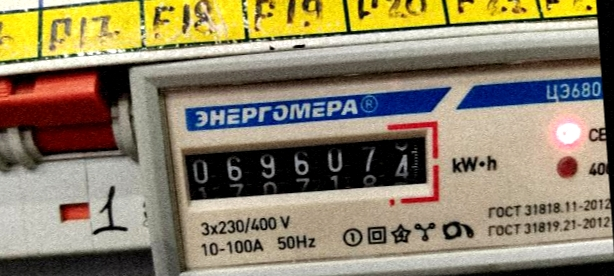0: (190, 157, 213, 186), (327, 144, 347, 174), (226, 154, 245, 181)
4: (394, 152, 413, 182)
6: (292, 147, 312, 178)
7: (360, 143, 380, 173)
9: (259, 151, 279, 180)
screen: (168, 117, 447, 220)
